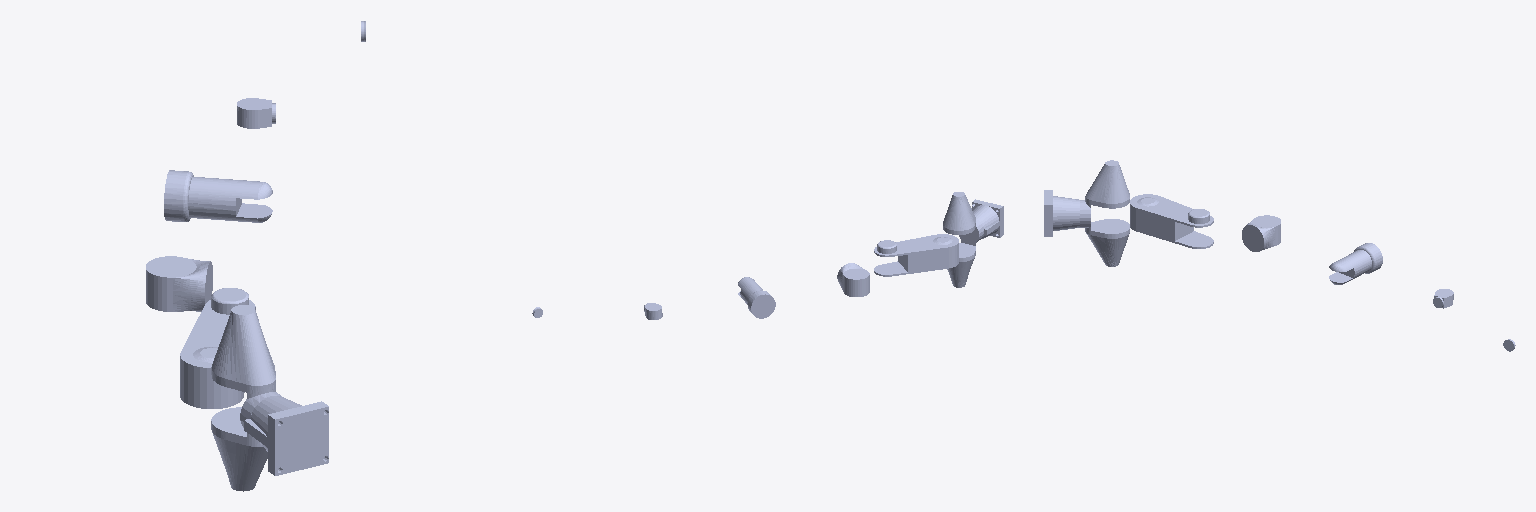
The robot description file, URDF, robot "CRS A465 v1 URDF and meshes":
<?xml version="1.0" encoding="utf-8"?>
<!-- This URDF was automatically created by SolidWorks to URDF Exporter! Originally created by [author] ([email redacted]) 
     Commit Version: 1.6.0-4-g7f85cfe  Build Version: 1.6.7995.38578
     For more information, please see http://wiki.ros.org/sw_urdf_exporter -->
<robot
  name="CRS A465 v1 URDF and meshes">
  <link
    name="base_link">
    <inertial>
      <origin
        xyz="-0.000787158067638676 0.0726324032696335 -2.42861286636753E-17"
        rpy="0 0 0" />
      <mass
        value="3.22508107928891" />
      <inertia
        ixx="0.012535082466685"
        ixy="0.000126522980528105"
        ixz="-2.33071184305897E-18"
        iyy="0.0107118716512365"
        iyz="1.74889858565207E-18"
        izz="0.0127269030026239" />
    </inertial>
    <visual>
      <origin
        xyz="0 0 0"
        rpy="0 0 0" />
      <geometry>
        <mesh
          filename="../CRSA465/meshes/base_link.STL" />
      </geometry>
      <material
        name="">
        <color
          rgba="0.792156862745098 0.819607843137255 0.933333333333333 1" />
      </material>
    </visual>
    <collision>
      <origin
        xyz="0 0 0"
        rpy="0 0 0" />
      <geometry>
        <mesh
          filename="../CRSA465/meshes/base_link.STL" />
      </geometry>
    </collision>
  </link>
  <link
    name="joint1">
    <inertial>
      <origin
        xyz="1.24790885608697E-06 0.124204980000617 5.13913940965172E-07"
        rpy="0 0 0" />
      <mass
        value="6.1592751095385" />
      <inertia
        ixx="0.125902215283726"
        ixy="1.24689741873574E-07"
        ixz="-0.000285986444044035"
        iyy="0.115168187134693"
        iyz="-6.85649516320991E-07"
        izz="0.0250005755703568" />
    </inertial>
    <visual>
      <origin
        xyz="0 0 0"
        rpy="0 0 0" />
      <geometry>
        <mesh
          filename="../CRSA465/meshes/joint1.STL" />
      </geometry>
      <material
        name="">
        <color
          rgba="0.792156862745098 0.819607843137255 0.933333333333333 1" />
      </material>
    </visual>
    <collision>
      <origin
        xyz="0 0 0"
        rpy="0 0 0" />
      <geometry>
        <mesh
          filename="../CRSA465/meshes/joint1.STL" />
      </geometry>
    </collision>
  </link>
  <joint
    name="joint1"
    type="revolute">
    <origin
      xyz="7.6005E-05 0.1651 0"
      rpy="0 0 0" />
    <parent
      link="base_link" />
    <child
      link="joint1" />
    <axis
      xyz="0 1 0" />
    <limit
      lower="-3.0543"
      upper="3.0543"
      effort="39.5"
      velocity="3.14" />
  </joint>
  <link
    name="joint2">
    <inertial>
      <origin
        xyz="0.0611609667663105 0.0754086917684747 0.00246150374226117"
        rpy="0 0 0" />
      <mass
        value="6.20388438464635" />
      <inertia
        ixx="0.057101557053654"
        ixy="-0.0290439020077398"
        ixz="-0.00207372321752777"
        iyy="0.044856499440708"
        iyz="-0.00256342709274686"
        izz="0.0824135201058751" />
    </inertial>
    <visual>
      <origin
        xyz="0 0 0"
        rpy="0 0 0" />
      <geometry>
        <mesh
          filename="../CRSA465/meshes/joint2.STL" />
      </geometry>
      <material
        name="">
        <color
          rgba="0.792156862745098 0.819607843137255 0.933333333333333 1" />
      </material>
    </visual>
    <collision>
      <origin
        xyz="0 0 0"
        rpy="0 0 0" />
      <geometry>
        <mesh
          filename="../CRSA465/meshes/joint2.STL" />
      </geometry>
    </collision>
  </link>
  <joint
    name="joint2"
    type="revolute">
    <origin
      xyz="8.8553E-05 0.3119 0"
      rpy="0 0 0" />
    <parent
      link="joint1" />
    <child
      link="joint2" />
    <axis
      xyz="-0.0028358 0 -1" />
    <limit
      lower="-1.5707"
      upper="1.5707"
      effort="66.08"
      velocity="3.14" />
  </joint>
  <link
    name="joint3">
    <inertial>
      <origin
        xyz="0.0182391922122872 -0.0150199001537463 -5.17062705667759E-05"
        rpy="0 0 0" />
      <mass
        value="2.06338105324787" />
      <inertia
        ixx="0.00513775807304631"
        ixy="0.000874831104067013"
        ixz="5.38147033142529E-06"
        iyy="0.00547968351463633"
        iyz="-2.47838880659034E-06"
        izz="0.00703561798741284" />
    </inertial>
    <visual>
      <origin
        xyz="0 0 0"
        rpy="0 0 0" />
      <geometry>
        <mesh
          filename="../CRSA465/meshes/joint3.STL" />
      </geometry>
      <material
        name="">
        <color
          rgba="0.792156862745098 0.819607843137255 0.933333333333333 1" />
      </material>
    </visual>
    <collision>
      <origin
        xyz="0 0 0"
        rpy="0 0 0" />
      <geometry>
        <mesh
          filename="../CRSA465/meshes/joint3.STL" />
      </geometry>
    </collision>
  </link>
  <joint
    name="joint3"
    type="revolute">
    <origin
      xyz="0.19207 0.54864 -0.00054446"
      rpy="0 0 0" />
    <parent
      link="joint2" />
    <child
      link="joint3" />
    <axis
      xyz="0.0028358 0 1" />
    <limit
      lower="-1.9198"
      upper="1.9198"
      effort="39.5"
      velocity="3.14" />
  </joint>
  <link
    name="joint4">
    <inertial>
      <origin
        xyz="0.0799781047932193 -0.0658598726878036 -0.000185504937324148"
        rpy="0 0 0" />
      <mass
        value="2.38454870575322" />
      <inertia
        ixx="0.00840478429474358"
        ixy="0.00488900713478727"
        ixz="-4.42783481368423E-06"
        iyy="0.0103170210407077"
        iyz="-1.36129447151643E-05"
        izz="0.0140410482843407" />
    </inertial>
    <visual>
      <origin
        xyz="0 0 0"
        rpy="0 0 0" />
      <geometry>
        <mesh
          filename="../CRSA465/meshes/joint4.STL" />
      </geometry>
      <material
        name="">
        <color
          rgba="0.792156862745098 0.819607843137255 0.933333333333333 1" />
      </material>
    </visual>
    <collision>
      <origin
        xyz="0 0 0"
        rpy="0 0 0" />
      <geometry>
        <mesh
          filename="../CRSA465/meshes/joint4.STL" />
      </geometry>
    </collision>
  </link>
  <joint
    name="joint4"
    type="continuous">
    <origin
      xyz="0.2705 0.48405 -0.00076675"
      rpy="0 0 0" />
    <parent
      link="joint3" />
    <child
      link="joint4" />
    <axis
      xyz="0.77194 -0.63569 -0.0021891" />
    <limit
      lower="-3.14"
      upper="3.14"
      effort="6.89"
      velocity="2.99" />
  </joint>
  <link
    name="Joint5">
    <inertial>
      <origin
        xyz="0.00707499539564882 -0.00401742547320322 -7.91363927680096E-05"
        rpy="0 0 0" />
      <mass
        value="0.367557520547931" />
      <inertia
        ixx="0.000269961350027843"
        ixy="4.24895725668885E-05"
        ixz="2.98884210189463E-06"
        iyy="0.000320591039551665"
        iyz="1.89086650958823E-06"
        izz="0.000417019561038642" />
    </inertial>
    <visual>
      <origin
        xyz="0 0 0"
        rpy="0 0 0" />
      <geometry>
        <mesh
          filename="../CRSA465/meshes/Joint5.STL" />
      </geometry>
      <material
        name="">
        <color
          rgba="0.792156862745098 0.819607843137255 0.933333333333333 1" />
      </material>
    </visual>
    <collision>
      <origin
        xyz="0 0 0"
        rpy="0 0 0" />
      <geometry>
        <mesh
          filename="../CRSA465/meshes/Joint5.STL" />
      </geometry>
    </collision>
  </link>
  <joint
    name="Joint5"
    type="revolute">
    <origin
      xyz="0.45185 0.33471 -0.0012794"
      rpy="0 0 0" />
    <parent
      link="joint4" />
    <child
      link="Joint5" />
    <axis
      xyz="0.029701 0.032626 0.99903" />
    <limit
      lower="-1.8325"
      upper="1.8325"
      effort="6.82"
      velocity="3.02" />
  </joint>
  <link
    name="Joint6">
    <inertial>
      <origin
        xyz="0.00670585574131449 -0.00380781529431826 -7.50074316820983E-05"
        rpy="0 0 0" />
      <mass
        value="0.03527580187894" />
      <inertia
        ixx="1.17943435055741E-05"
        ixy="-2.55328021421419E-06"
        ixz="-5.02952418723364E-08"
        iyy="8.74766080867519E-06"
        iyz="2.85593664135969E-08"
        izz="7.29838314623306E-06" />
    </inertial>
    <visual>
      <origin
        xyz="0 0 0"
        rpy="0 0 0" />
      <geometry>
        <mesh
          filename="../CRSA465/meshes/Joint6.STL" />
      </geometry>
      <material
        name="">
        <color
          rgba="0.792156862745098 0.819607843137255 0.933333333333333 1" />
      </material>
    </visual>
    <collision>
      <origin
        xyz="0 0 0"
        rpy="0 0 0" />
      <geometry>
        <mesh
          filename="../CRSA465/meshes/Joint6.STL" />
      </geometry>
    </collision>
  </link>
  <joint
    name="Joint6"
    type="continuous">
    <origin
      xyz="0.50446 0.30484 -0.0018679"
      rpy="0 0 0" />
    <parent
      link="Joint5" />
    <child
      link="Joint6" />
    <axis
      xyz="0.86955 -0.49376 -0.0097262" />
    <limit
      lower="-3.1416"
      upper="3.1416"
      effort="2.5"
      velocity="2.99" />
  </joint>
</robot>

--- Facts derived from the render (not from the file) ---
Views: 3 orthographic renders of the robot side by side, from view 1: azimuth 30°, elevation 25°; view 2: azimuth 150°, elevation 25°; view 3: azimuth 270°, elevation 25°.
Model CRS A465 v1 URDF and meshes with 7 links and 6 joints (4 revolute, 2 continuous), rooted at base_link, posed all joints at 0.
Visible links, largest first — view 1: joint1, base_link, joint2, joint4, joint3, Joint5; view 2: joint2, joint1, joint4, joint3, base_link; view 3: joint1, joint2, joint4, base_link, joint3.
Boxes of the visible links, x1,y1,x2,y2 form: joint1: [211, 305, 281, 491]; base_link: [244, 396, 328, 475]; joint2: [180, 288, 255, 408]; joint4: [164, 170, 272, 222]; joint3: [146, 256, 212, 311]; Joint5: [237, 98, 275, 128]; joint2: [874, 234, 958, 276]; joint1: [943, 192, 983, 287]; joint4: [738, 277, 775, 318]; joint3: [837, 263, 869, 296]; base_link: [972, 199, 1003, 238]; joint1: [1080, 160, 1129, 266]; joint2: [1130, 194, 1213, 248]; joint4: [1329, 243, 1382, 284]; base_link: [1044, 190, 1079, 236]; joint3: [1242, 215, 1280, 251].
Bounding box of the posed robot: 1.53 × 2.17 × 0.5138 m (x, y, z).
Meshes: 7 distinct files referenced, 7 mesh visuals loaded (7 binary STL).